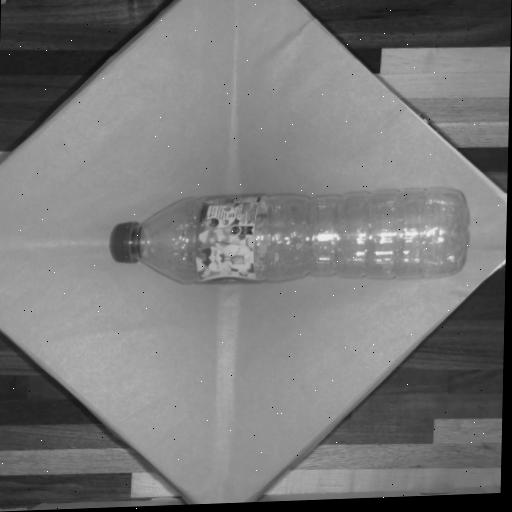bottle: (94, 173, 479, 301)
